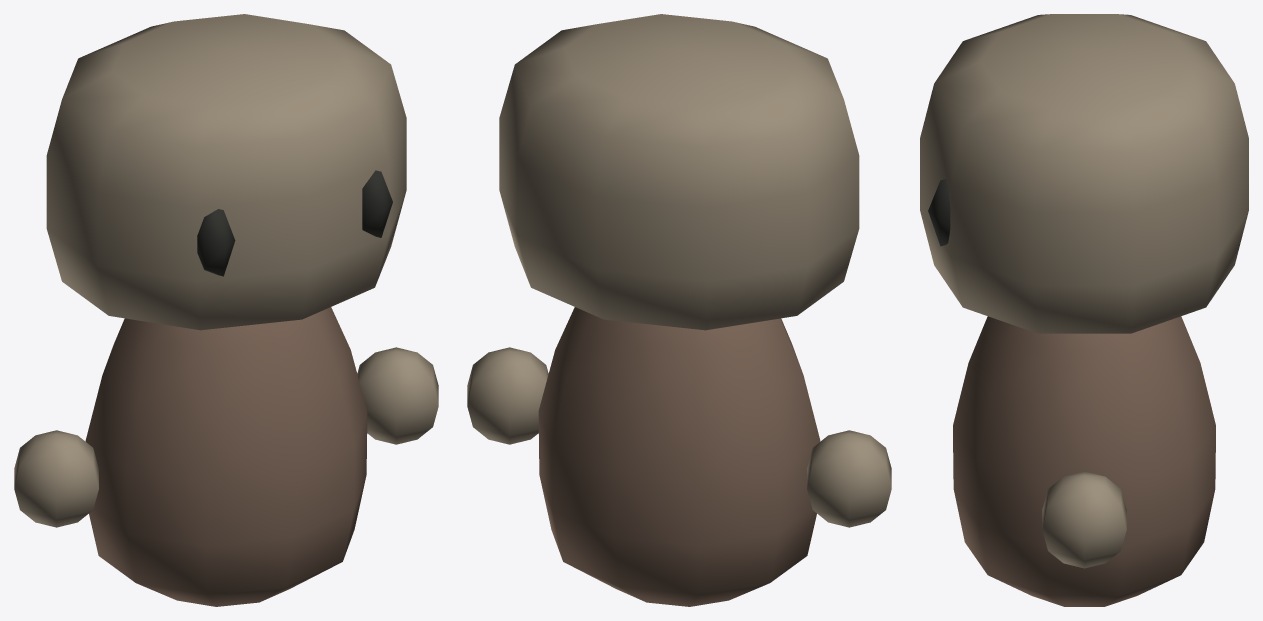
The model's file is perso 1.fbx.
3 views of the same model, side by side, from view 1: azimuth 30°, elevation 25°; view 2: azimuth 150°, elevation 25°; view 3: azimuth 270°, elevation 25° (orthographic).
Visible parts, largest first — view 1: pPlatonic3, pSphere5, pSphere4; view 2: pPlatonic3, pSphere5, pSphere4; view 3: pPlatonic3, pSphere4.
Boxes of the visible parts, box(x1,y1,x2,y2) form: pPlatonic3: box(46, 14, 406, 606); pSphere5: box(14, 430, 98, 527); pSphere4: box(357, 347, 438, 444); pPlatonic3: box(499, 14, 859, 606); pSphere5: box(807, 430, 891, 527); pSphere4: box(467, 347, 548, 444); pPlatonic3: box(920, 14, 1248, 606); pSphere4: box(1042, 471, 1126, 568).
Size of the model in its own units: 120 by 144 by 81.11.
